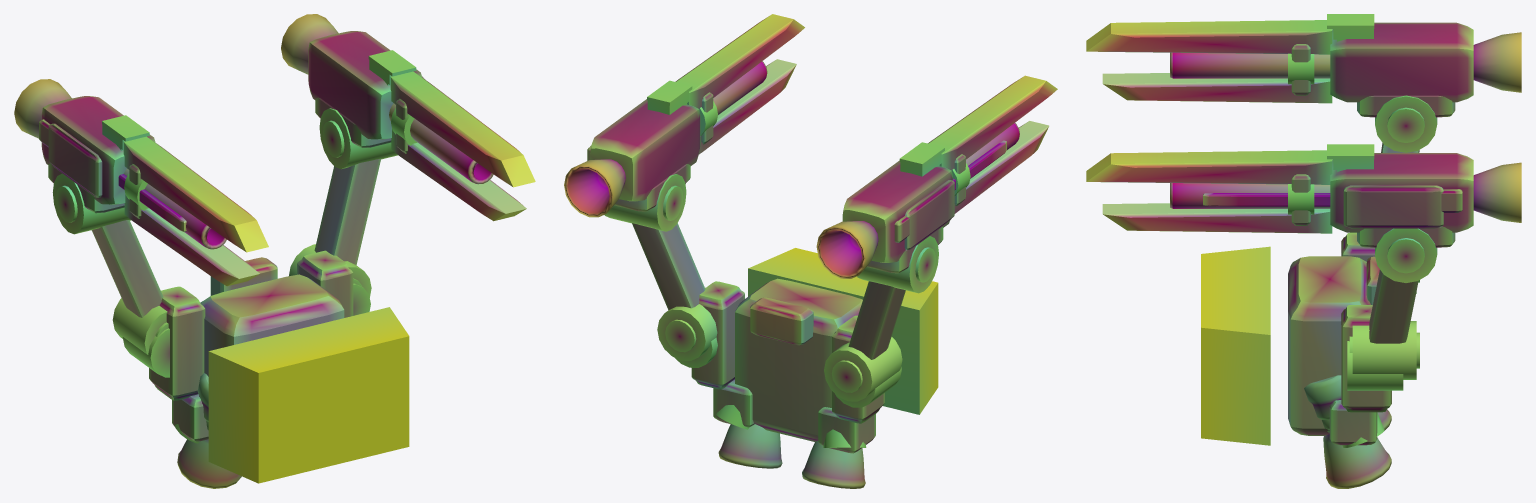
The model's file is llm_gen_dorsal_pack_107_a8a2ff.glb.
The picture shows the model from 3 angles, left to right: view 1: azimuth 30°, elevation 25°; view 2: azimuth 150°, elevation 25°; view 3: azimuth 270°, elevation 25°; orthographic projection. The views are drawn at different scales.
Parts seen in each view (by area): view 1: mounting_dovetail_plug, adapter_dorsal_spine_dark, artillery_breech_6_crimson_gloss_r, artillery_upper_rail_12_crimson_gloss_l, artillery_upper_rail_12_crimson_gloss_r, artillery_pylon_2_adapter_dark_r, adapter_dorsal_outrigger_dark_l, artillery_breech_6_crimson_gloss_l, artillery_pylon_2_adapter_dark_l, artillery_lower_rail_13_adapter_dark_r, artillery_lower_rail_13_adapter_dark_l, artillery_flank_armor_7_adapter_dark_l (+20 smaller); view 2: adapter_dorsal_spine_dark, mounting_dovetail_plug, artillery_breech_6_crimson_gloss_r, artillery_breech_6_crimson_gloss_l, artillery_upper_rail_12_crimson_gloss_l, artillery_upper_rail_12_crimson_gloss_r, artillery_pylon_2_adapter_dark_r, adapter_dorsal_outrigger_dark_r, artillery_rear_venturi_10_vernier_bell_r, artillery_rear_venturi_10_vernier_bell_l, artillery_pylon_2_adapter_dark_l, adapter_dorsal_latch_gold (+24 smaller); view 3: mounting_dovetail_plug, artillery_breech_6_crimson_gloss_l, adapter_dorsal_spine_dark, artillery_upper_rail_12_crimson_gloss_r, artillery_upper_rail_12_crimson_gloss_l, artillery_breech_6_crimson_gloss_r, artillery_lower_rail_13_adapter_dark_l, artillery_lower_rail_13_adapter_dark_r, artillery_flank_armor_7_adapter_dark_r, artillery_barrel_11_barrel_metal_l, artillery_pylon_2_adapter_dark_r, adapter_sub_art_drum_dark_0_adapter_dark_r (+24 smaller).
Part boxes in pixels (x1,y1,x2,y2): mounting_dovetail_plug: (208, 307, 409, 483); adapter_dorsal_spine_dark: (200, 274, 344, 376); artillery_breech_6_crimson_gloss_r: (308, 31, 421, 139); artillery_upper_rail_12_crimson_gloss_l: (123, 136, 268, 252); artillery_upper_rail_12_crimson_gloss_r: (390, 71, 535, 187); artillery_pylon_2_adapter_dark_r: (314, 158, 380, 264); adapter_dorsal_outrigger_dark_l: (149, 286, 205, 400); artillery_breech_6_crimson_gloss_l: (41, 96, 155, 204); artillery_pylon_2_adapter_dark_l: (91, 220, 163, 317); artillery_lower_rail_13_adapter_dark_r: (391, 129, 526, 221); artillery_lower_rail_13_adapter_dark_l: (124, 195, 259, 286); artillery_flank_armor_7_adapter_dark_l: (48, 123, 102, 197); adapter_dorsal_spine_dark: (735, 278, 862, 441); mounting_dovetail_plug: (748, 248, 938, 414); artillery_breech_6_crimson_gloss_r: (590, 99, 700, 201); artillery_breech_6_crimson_gloss_l: (842, 160, 952, 262); artillery_upper_rail_12_crimson_gloss_l: (928, 75, 1057, 170); artillery_upper_rail_12_crimson_gloss_r: (675, 14, 804, 108); artillery_pylon_2_adapter_dark_r: (632, 223, 705, 309); adapter_dorsal_outrigger_dark_r: (691, 281, 744, 389); artillery_rear_venturi_10_vernier_bell_r: (564, 159, 625, 217); artillery_rear_venturi_10_vernier_bell_l: (816, 221, 878, 278); artillery_pylon_2_adapter_dark_l: (848, 281, 905, 359); adapter_dorsal_latch_gold: (750, 297, 813, 345); mounting_dovetail_plug: (1201, 246, 1270, 445); artillery_breech_6_crimson_gloss_l: (1330, 22, 1473, 102); adapter_dorsal_spine_dark: (1288, 256, 1370, 435); artillery_upper_rail_12_crimson_gloss_r: (1086, 150, 1332, 184); artillery_upper_rail_12_crimson_gloss_l: (1086, 20, 1332, 54); artillery_breech_6_crimson_gloss_r: (1330, 153, 1473, 232); artillery_lower_rail_13_adapter_dark_l: (1102, 73, 1332, 103); artillery_lower_rail_13_adapter_dark_r: (1102, 203, 1332, 233); artillery_flank_armor_7_adapter_dark_r: (1343, 185, 1443, 228); artillery_barrel_11_barrel_metal_l: (1170, 52, 1330, 78); artillery_pylon_2_adapter_dark_r: (1369, 270, 1418, 343); adapter_sub_art_drum_dark_0_adapter_dark_r: (1352, 321, 1416, 379).
Size of the model in its own units: 43.99 by 47.47 by 49.91.
